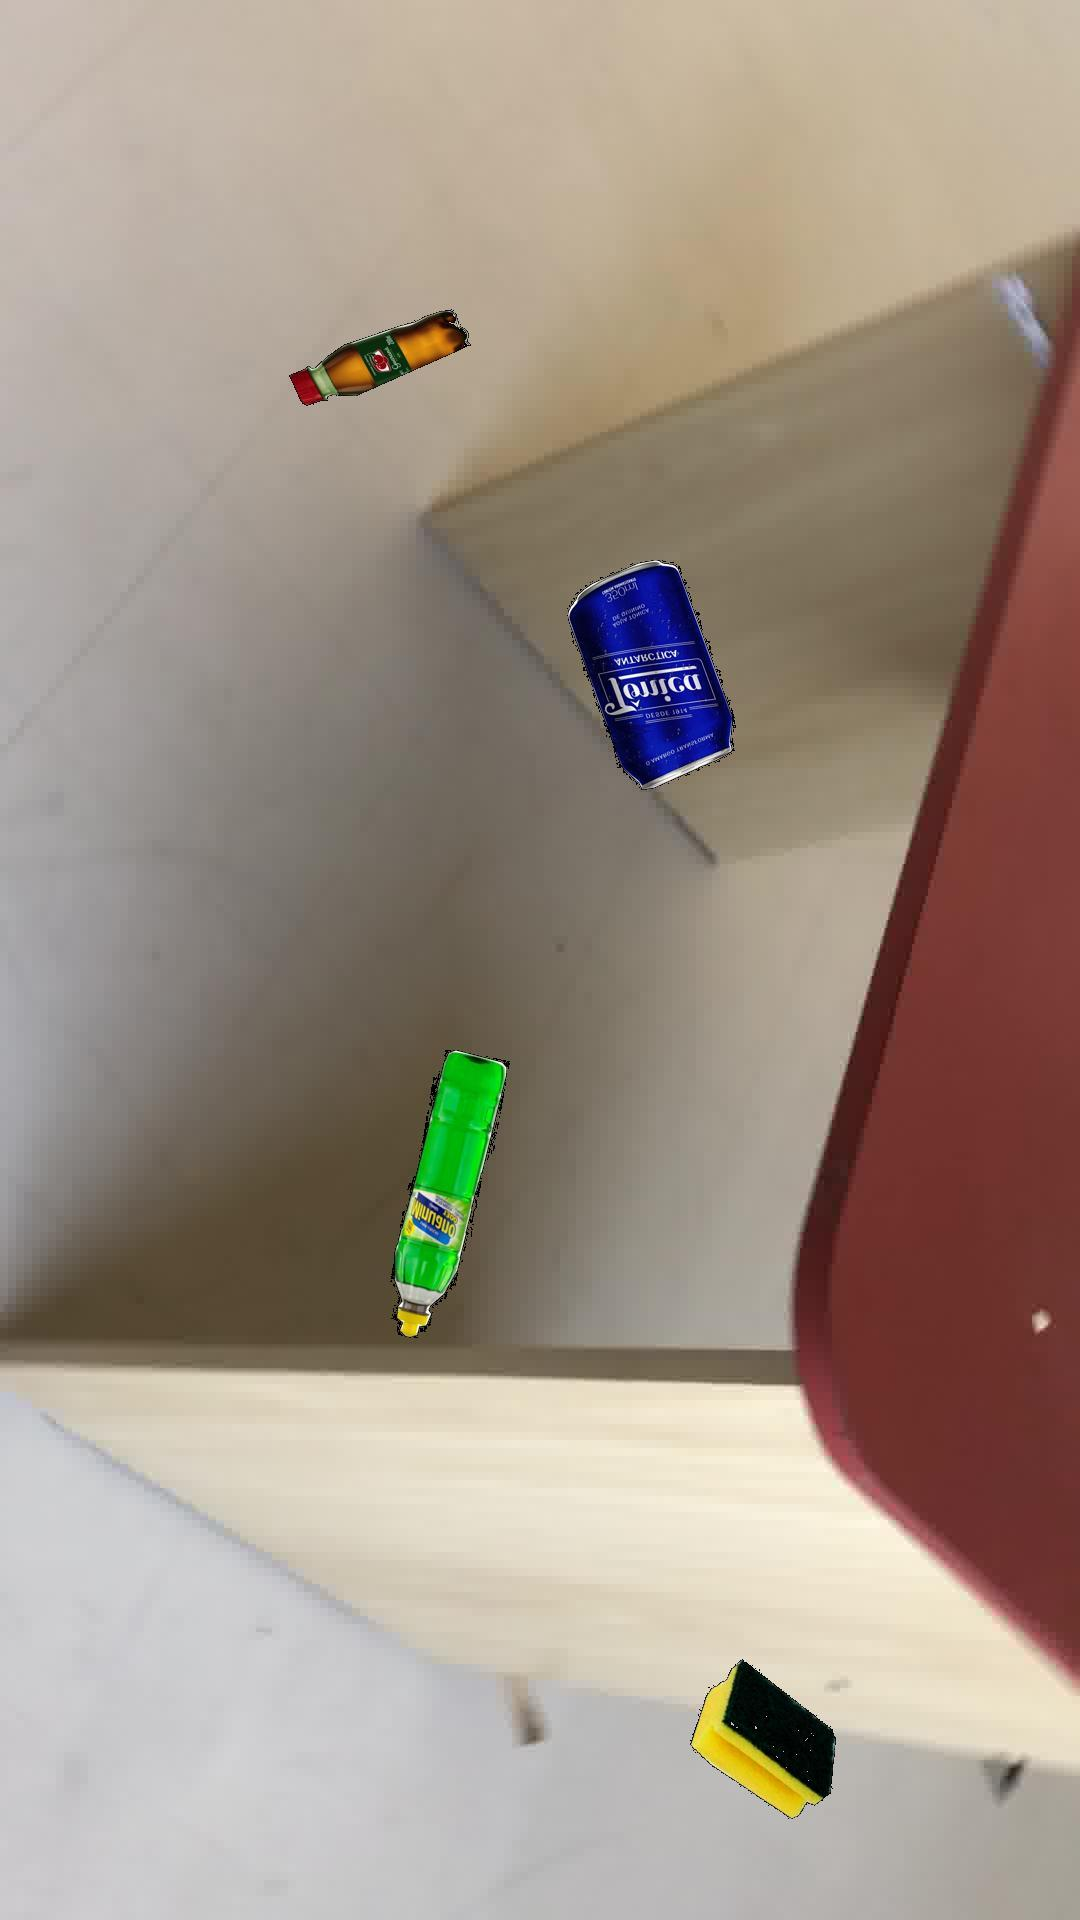cleaner: (389, 1048, 508, 1337)
guarana: (287, 309, 469, 405)
sponge: (688, 1658, 835, 1817)
tonic: (566, 559, 735, 789)
